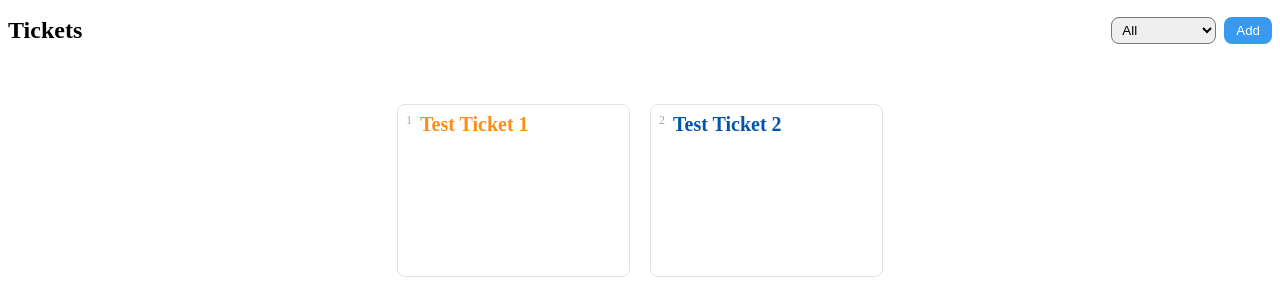
Test case: Tickets Component › filters tickets by assigned status
The image size is (1280, 294).
Select "Assigned" in the dropdown. click: (1164, 30)
box: [1111, 17, 1216, 44]
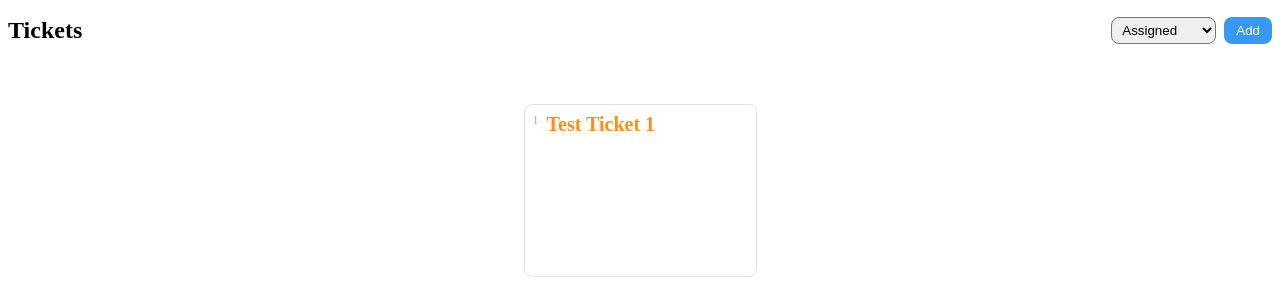
Expected: the text "Test Ticket 1" is shown, [546, 113, 655, 136]
Expected: the link "Test Ticket 2" is gone
